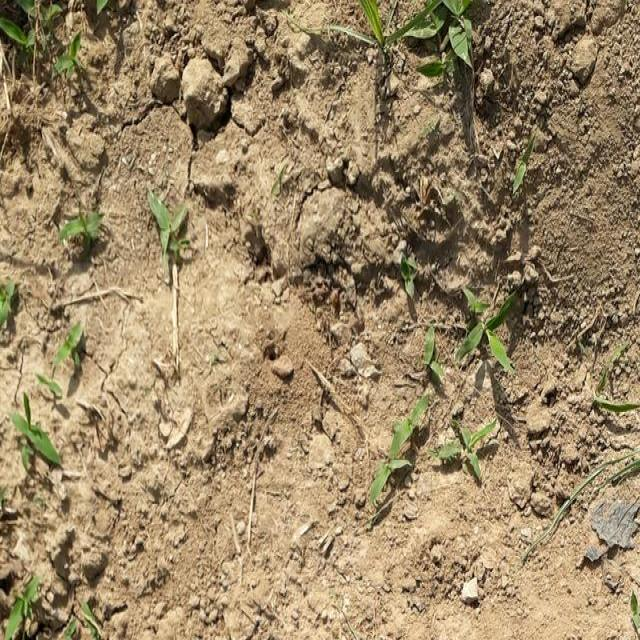weed: (367, 266, 508, 519), (346, 5, 511, 85), (550, 442, 640, 526), (11, 411, 62, 457), (144, 191, 187, 243), (62, 202, 104, 255), (58, 582, 99, 635), (8, 572, 36, 638), (51, 319, 87, 366), (597, 394, 640, 427), (54, 31, 82, 81), (514, 140, 539, 189), (36, 370, 65, 410), (0, 276, 16, 332), (626, 587, 640, 640)
